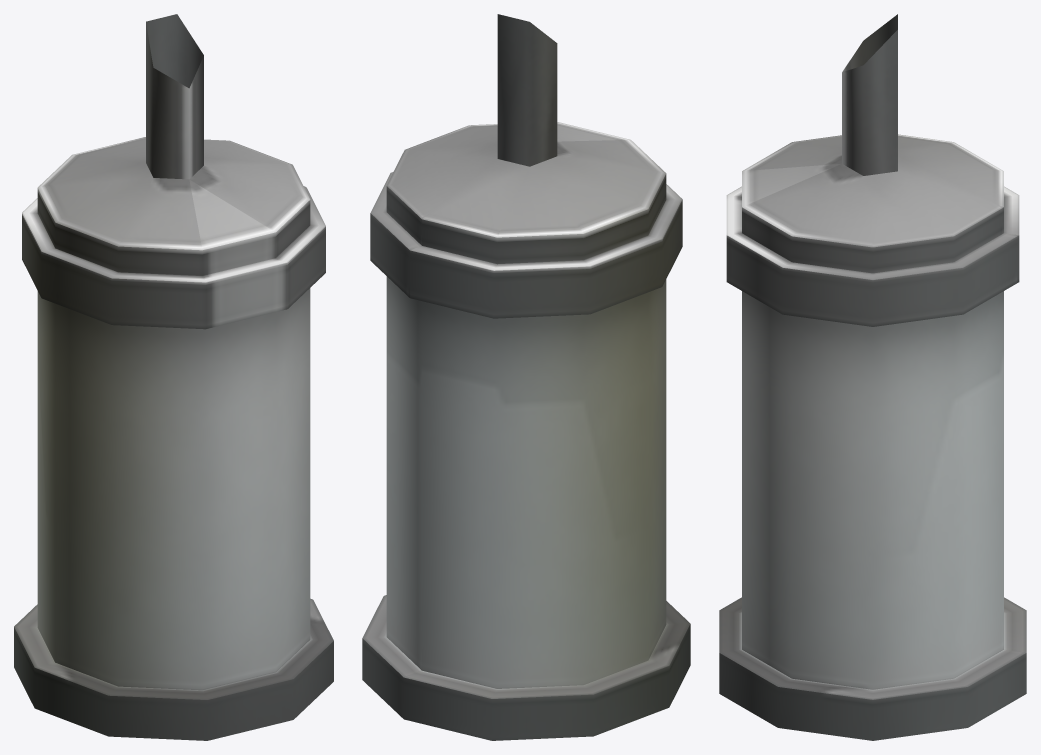
File: SugarShaker.fbx
3 renders of one model, left to right at view 1: azimuth 30°, elevation 25°; view 2: azimuth 150°, elevation 25°; view 3: azimuth 270°, elevation 25°, orthographic. The views are drawn at different scales.
Visible parts, largest first — view 1: SugarShaker2; view 2: SugarShaker2; view 3: SugarShaker2.
Part boxes in pixels (left/top/right/bottom): SugarShaker2: left=14, top=14, right=333, bottom=740; SugarShaker2: left=362, top=14, right=690, bottom=740; SugarShaker2: left=719, top=14, right=1026, bottom=740.
Bounding box in the file's own units: 3.75 × 8.32 × 3.56.
